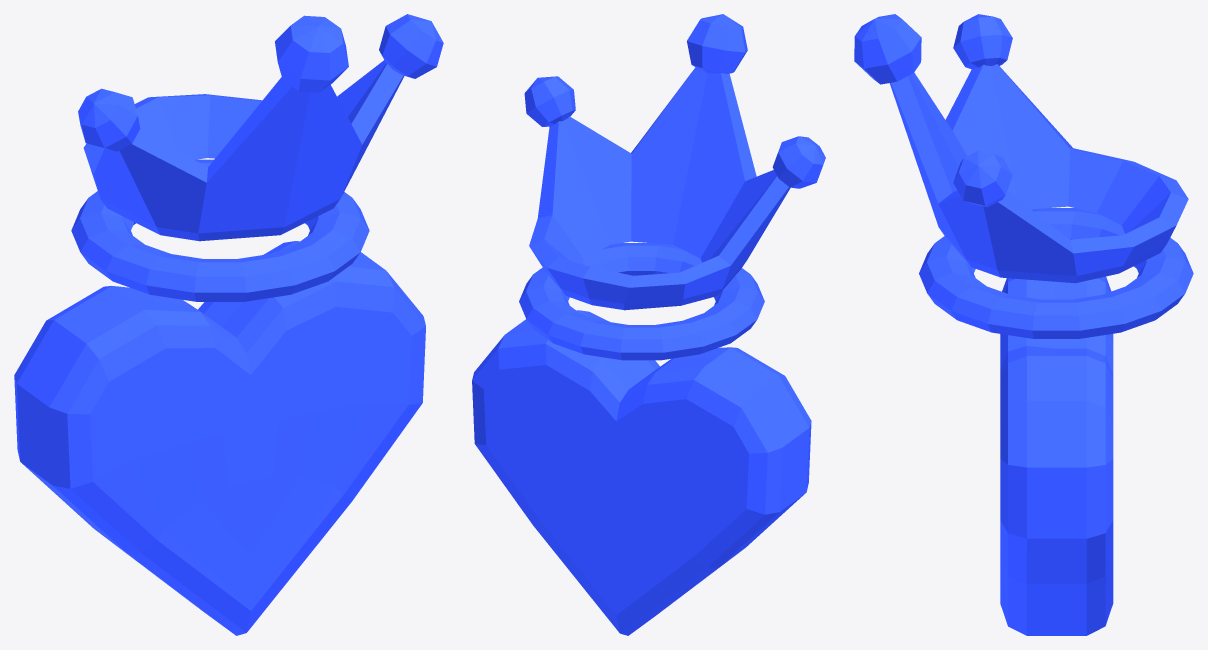
Rendered from fan-favorite.glb.
3 renders of one model, left to right at view 1: azimuth 30°, elevation 25°; view 2: azimuth 150°, elevation 25°; view 3: azimuth 270°, elevation 25°, orthographic. The views are drawn at different scales.
Parts seen in each view (by area): view 1: Heart, Crown Top, Crown Bottom, Balls; view 2: Heart, Crown Top, Crown Bottom, Balls; view 3: Heart, Crown Top, Crown Bottom, Balls.
Part boxes in pixels (left/top/right/bottom): Heart: left=14, top=241, right=425, bottom=635; Crown Top: left=83, top=60, right=404, bottom=241; Crown Bottom: left=71, top=159, right=369, bottom=301; Balls: left=78, top=14, right=443, bottom=151; Heart: left=472, top=310, right=811, bottom=635; Crown Top: left=529, top=67, right=790, bottom=310; Crown Bottom: left=519, top=243, right=764, bottom=360; Balls: left=524, top=14, right=825, bottom=188; Heart: left=1000, top=276, right=1113, bottom=635; Crown Top: left=889, top=64, right=1188, bottom=283; Crown Bottom: left=919, top=208, right=1193, bottom=338; Balls: left=854, top=14, right=1012, bottom=207.
Size of the model in its own units: 1.99 by 3.41 by 1.7.
